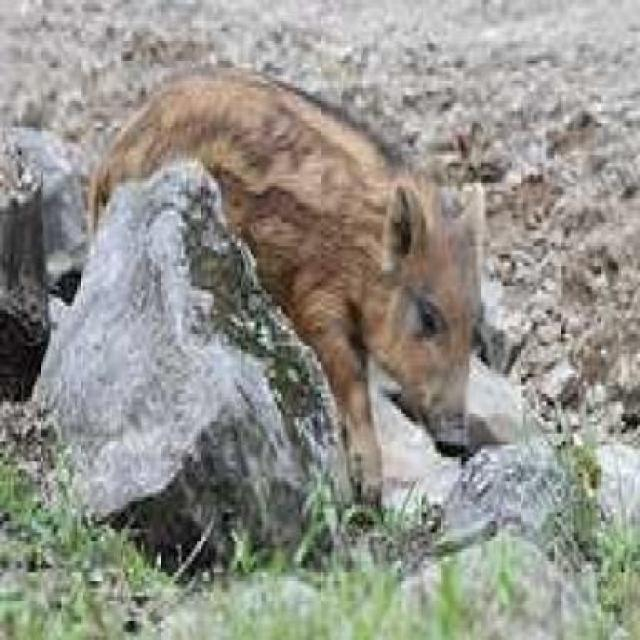Boar: (123, 63, 537, 472)
